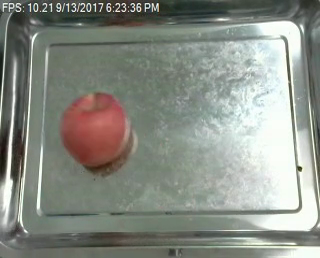Apple: (60, 90, 129, 171)
